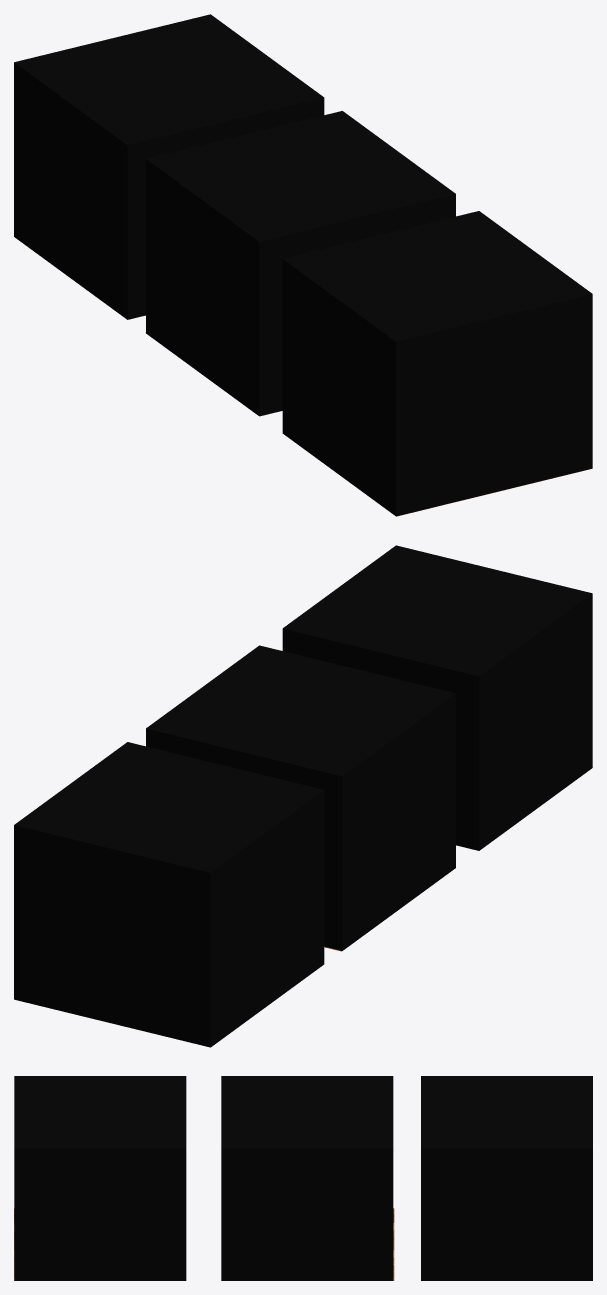
The model's file is SpotlightScene.gltf.
3 renders of one model, top to bottom at view 1: azimuth 30°, elevation 25°; view 2: azimuth 150°, elevation 25°; view 3: azimuth 270°, elevation 25°, orthographic. The views are drawn at different scales.
Parts seen in each view (by area): view 1: Cube.002, Cube.001, Cube; view 2: Cube, Cube.002, Cube.001; view 3: Cube.001, Cube.002, Cube.
Boxes of the visible parts, x1,y1,x2,y2 form: Cube.002: (282,211,592,516); Cube.001: (146,111,455,416); Cube: (14,14,324,319); Cube: (14,742,324,1047); Cube.002: (282,545,592,850); Cube.001: (146,645,455,950); Cube.001: (221,1076,393,1280); Cube.002: (14,1076,186,1280); Cube: (421,1076,592,1280).
Size of the model in its own units: 34.08 by 29.11 by 115.
Materials: 35 (34 with a texture image).
